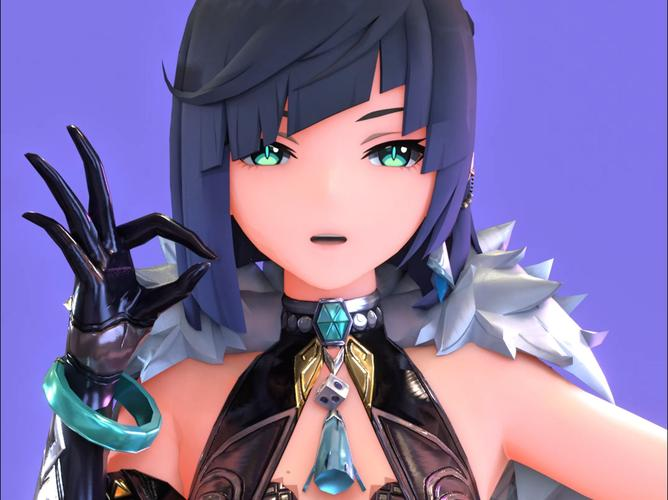夜兰: (23, 4, 668, 500)
